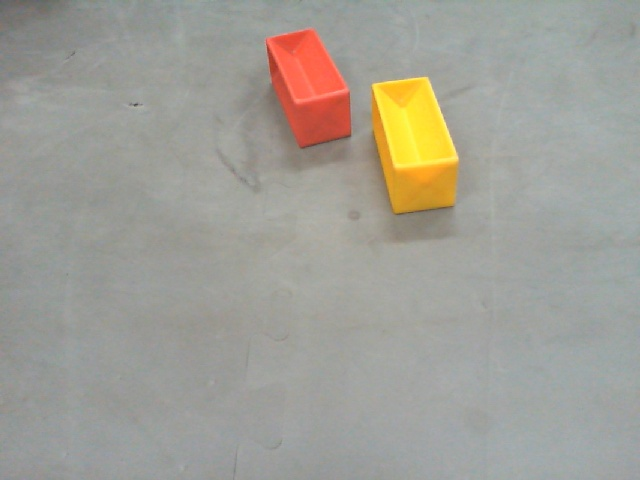RedSample: (262, 29, 353, 152)
YellowSample: (367, 72, 462, 216)
